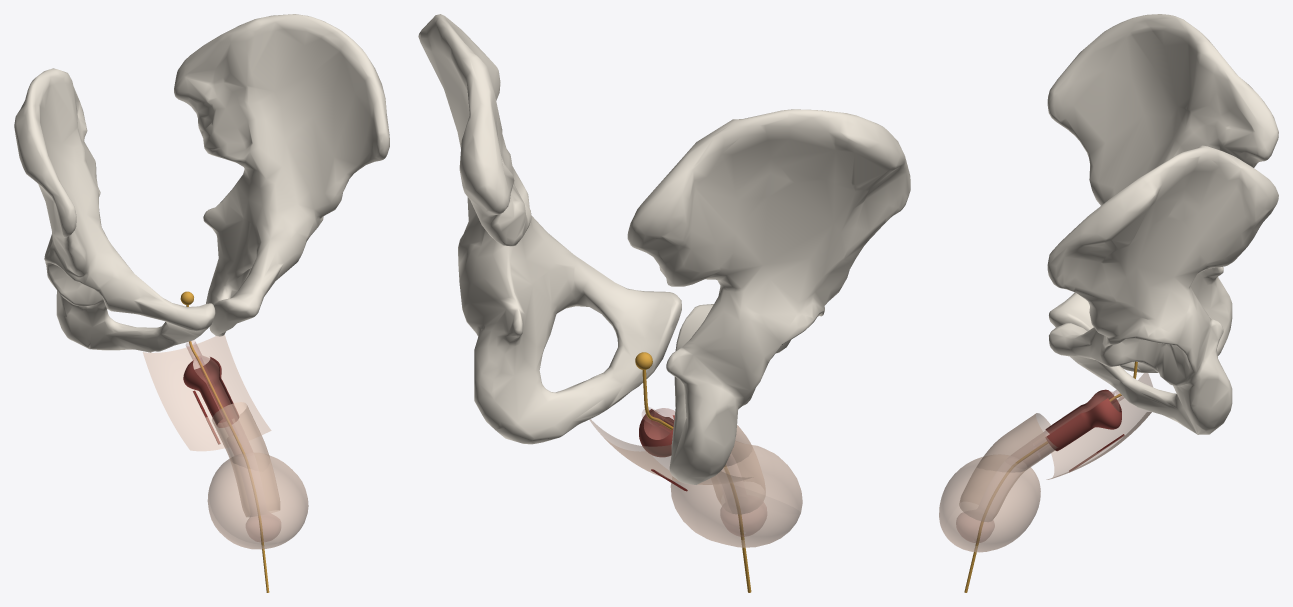
File: aus-26-exposure.glb
3 views of the same model, side by side, from view 1: azimuth 30°, elevation 25°; view 2: azimuth 150°, elevation 25°; view 3: azimuth 270°, elevation 25° (orthographic). The views are drawn at different scales.
Parts seen in each view (by area): view 1: Pubis_L, Pubis_R, Scrotum_shell, Perineal_skin, Penile_skin, Corpus_spongiosum, Bulbospongiosus, Catheter; view 2: Pubis_R, Pubis_L, Scrotum_shell, Penile_skin, Perineal_skin, Corpus_spongiosum, Bulbospongiosus, Catheter; view 3: Pubis_L, Pubis_R, Scrotum_shell, Penile_skin, Perineal_skin, Bulbospongiosus, Corpus_spongiosum, Catheter.
Part boxes in pixels (box(x1,y1,x2,y2)): Pubis_L: box(174, 14, 389, 336); Pubis_R: box(14, 68, 215, 352); Scrotum_shell: box(207, 453, 308, 549); Perineal_skin: box(143, 335, 271, 451); Penile_skin: box(212, 402, 279, 516); Corpus_spongiosum: box(186, 340, 280, 541); Bulbospongiosus: box(183, 357, 239, 427); Catheter: box(180, 291, 269, 592); Pubis_R: box(627, 109, 910, 484); Pubis_L: box(418, 14, 681, 444); Scrotum_shell: box(670, 441, 802, 547); Penile_skin: box(711, 425, 765, 514); Perineal_skin: box(589, 419, 753, 484); Corpus_spongiosum: box(642, 407, 766, 536); Bulbospongiosus: box(639, 409, 674, 457); Catheter: box(635, 352, 751, 592); Pubis_L: box(1047, 145, 1278, 434); Pubis_R: box(1047, 14, 1278, 372); Scrotum_shell: box(939, 455, 1040, 552); Penile_skin: box(959, 413, 1057, 521); Perineal_skin: box(1046, 373, 1152, 479); Bulbospongiosus: box(1045, 389, 1121, 451); Corpus_spongiosum: box(956, 390, 1123, 542); Catheter: box(964, 361, 1137, 592).
Size of what is drawn, in the model's own units: 0.2698 by 0.3444 by 0.2098.
